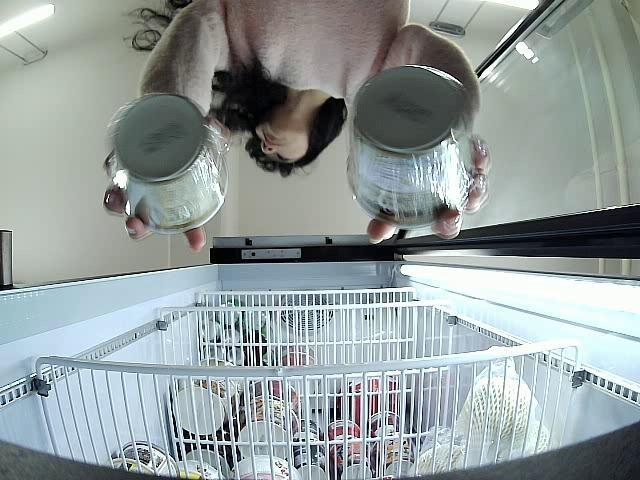04_chapagetti_S: (344, 65, 480, 231), (106, 97, 228, 233)
